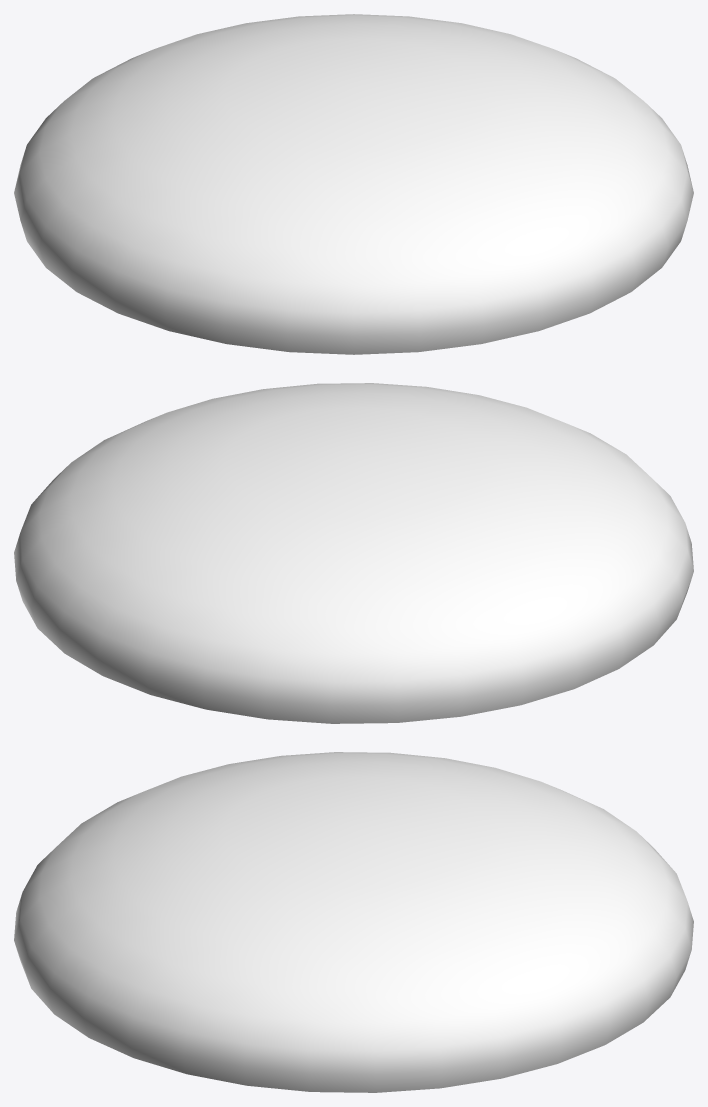
The model's file is stage_sd05d.glb.
3 views of the same model, one above another, from view 1: azimuth 30°, elevation 25°; view 2: azimuth 150°, elevation 25°; view 3: azimuth 270°, elevation 25° (orthographic).
Parts seen in each view (by area): view 1: sd00dbac001; view 2: sd00dbac001; view 3: sd00dbac001.
Boxes of the visible parts, x1,y1,x2,y2 form: sd00dbac001: (14,14,693,354); sd00dbac001: (14,383,693,723); sd00dbac001: (14,752,693,1092).
Size of the model in its own units: 956 by 226 by 956.
42 materials, 42 textured.
